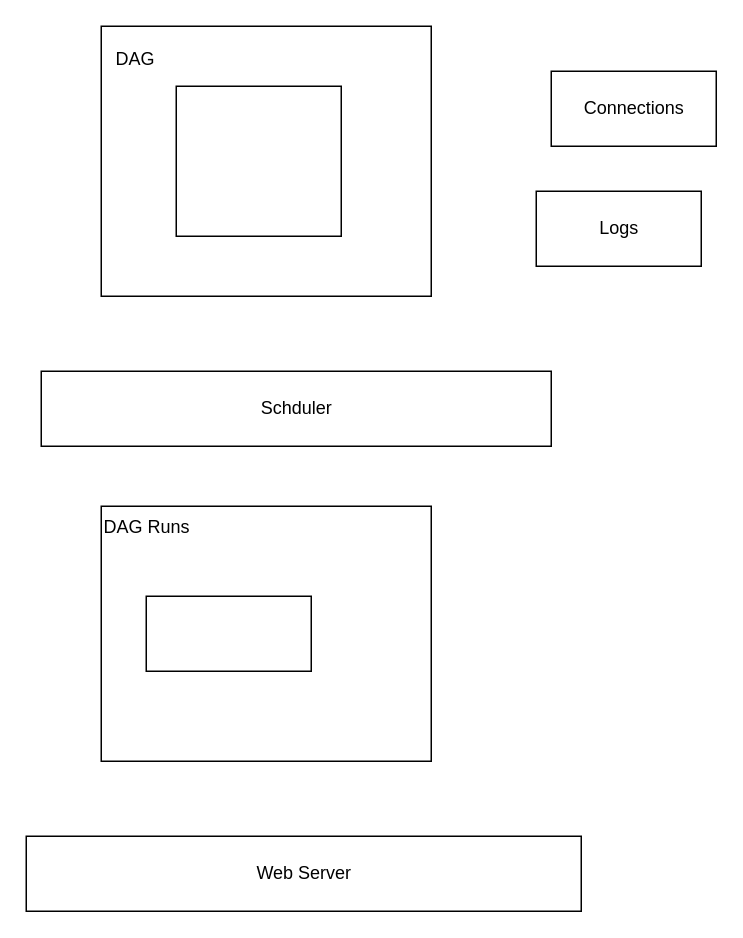
This 743x938 diagram has some shape labels left out. The shapes that lost their labels are listed below. From the top down, each one's centre as x and y in pixels, then its label:
[258,160]: Task|Operator
[228,633]: Task Instance
